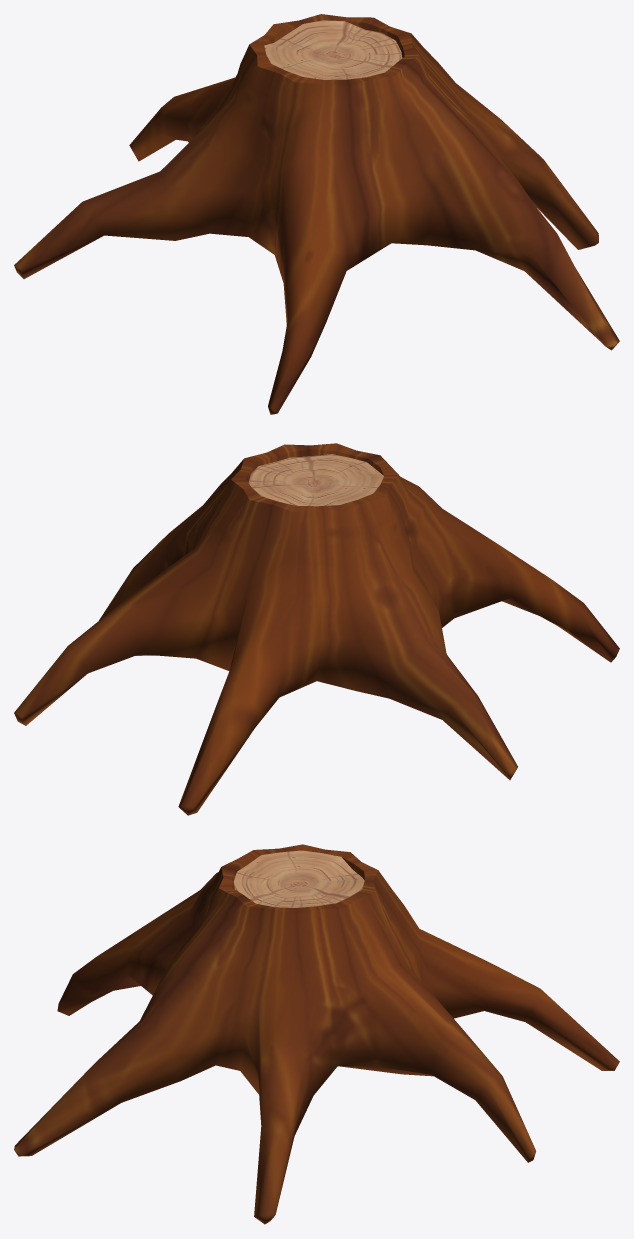
The model's file is obj_harvests_trees_pine01_p00.fbx.
The picture shows the model from 3 angles, top to bottom: view 1: azimuth 30°, elevation 25°; view 2: azimuth 150°, elevation 25°; view 3: azimuth 270°, elevation 25°; orthographic projection. The views are drawn at different scales.
Visible parts, largest first — view 1: obj_harvests_trees_pine01_p00; view 2: obj_harvests_trees_pine01_p00; view 3: obj_harvests_trees_pine01_p00.
Boxes of the visible parts, x1,y1,x2,y2 form: obj_harvests_trees_pine01_p00: (14,14,619,414); obj_harvests_trees_pine01_p00: (14,443,619,815); obj_harvests_trees_pine01_p00: (14,844,619,1224).
Size of the model in its own units: 17 by 7.83 by 18.3.
